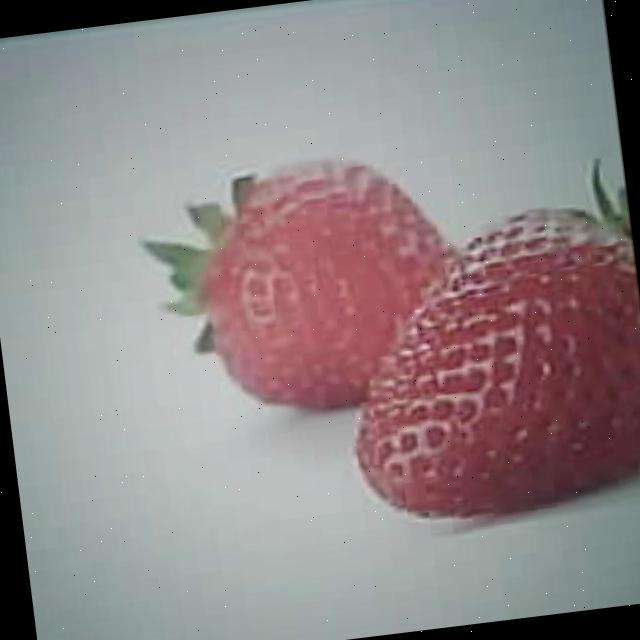strawberry: (329, 202, 640, 529), (194, 146, 479, 418)
